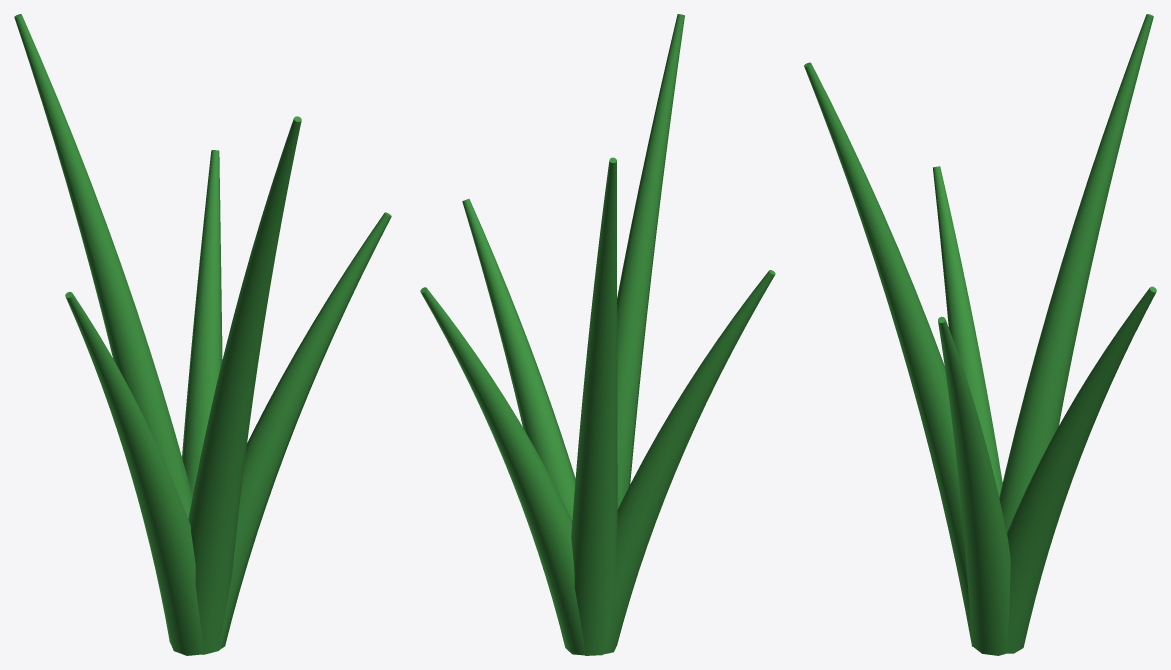
The model's file is tuft.glb.
The picture shows the model from 3 angles, left to right: view 1: azimuth 30°, elevation 25°; view 2: azimuth 150°, elevation 25°; view 3: azimuth 270°, elevation 25°; orthographic projection. The views are drawn at different scales.
Parts seen in each view (by area): view 1: tuft blade.001, tuft blade.003, tuft blade.002, tuft blade, tuft blade.004; view 2: tuft blade.003, tuft blade.004, tuft blade.001, tuft blade.002, tuft blade; view 3: tuft blade.003, tuft blade.001, tuft blade.004, tuft blade, tuft blade.002.
Part boxes in pixels (<box>): tuft blade.001: <box>188,116,301,654</box>; tuft blade.003: <box>14,14,192,643</box>; tuft blade.002: <box>65,292,208,655</box>; tuft blade: <box>215,212,391,650</box>; tuft blade.004: <box>182,150,222,495</box>; tuft blade.003: <box>571,157,617,655</box>; tuft blade.004: <box>420,287,591,655</box>; tuft blade.001: <box>617,14,684,509</box>; tuft blade.002: <box>597,270,775,654</box>; tuft blade: <box>462,199,575,520</box>; tuft blade.003: <box>999,14,1153,532</box>; tuft blade.001: <box>804,62,975,647</box>; tuft blade.004: <box>997,286,1156,653</box>; tuft blade: <box>938,316,1015,655</box>; tuft blade.002: <box>933,166,1002,496</box>.
Size of the model in its own units: 0.1861 by 0.3242 by 0.178.
